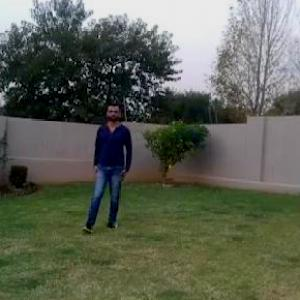follow: (93, 99, 129, 222)
